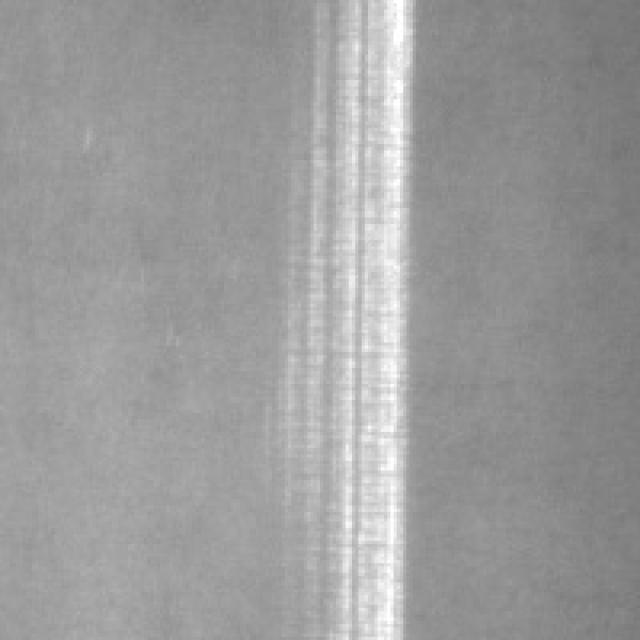scratches: (307, 0, 413, 634)
